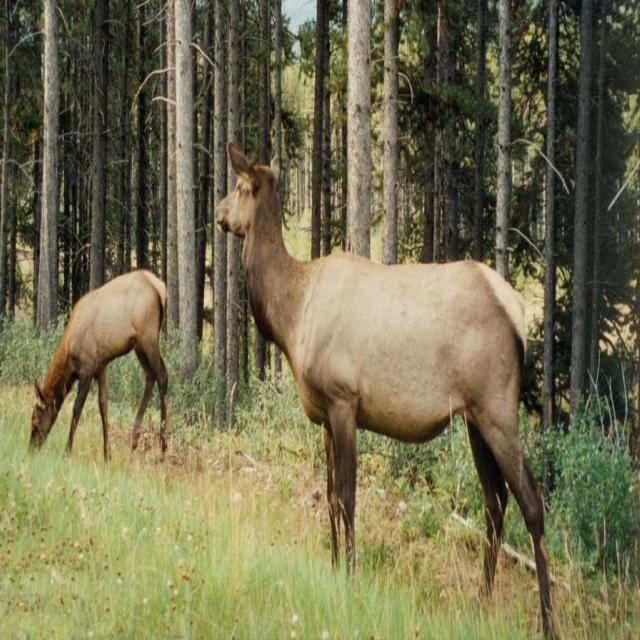Deer: (215, 141, 557, 639), (29, 269, 167, 457)
